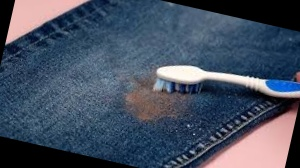earth: (128, 90, 174, 122)
